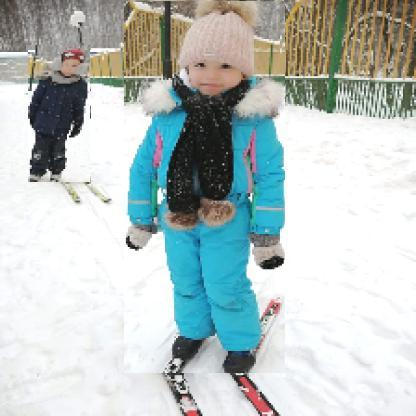child: (125, 2, 287, 375), (29, 46, 92, 184)
